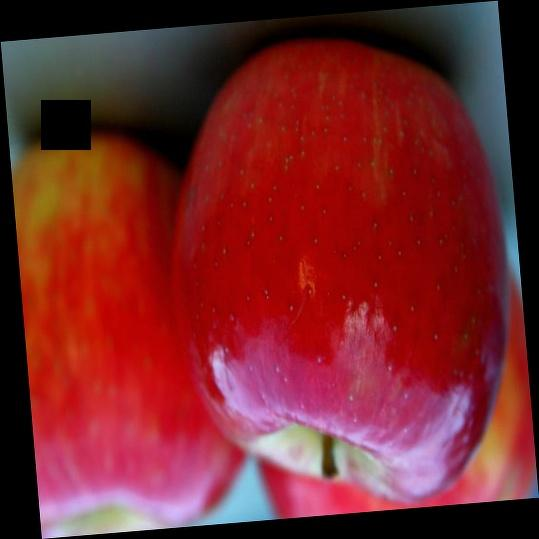red apple: (180, 35, 505, 507)
